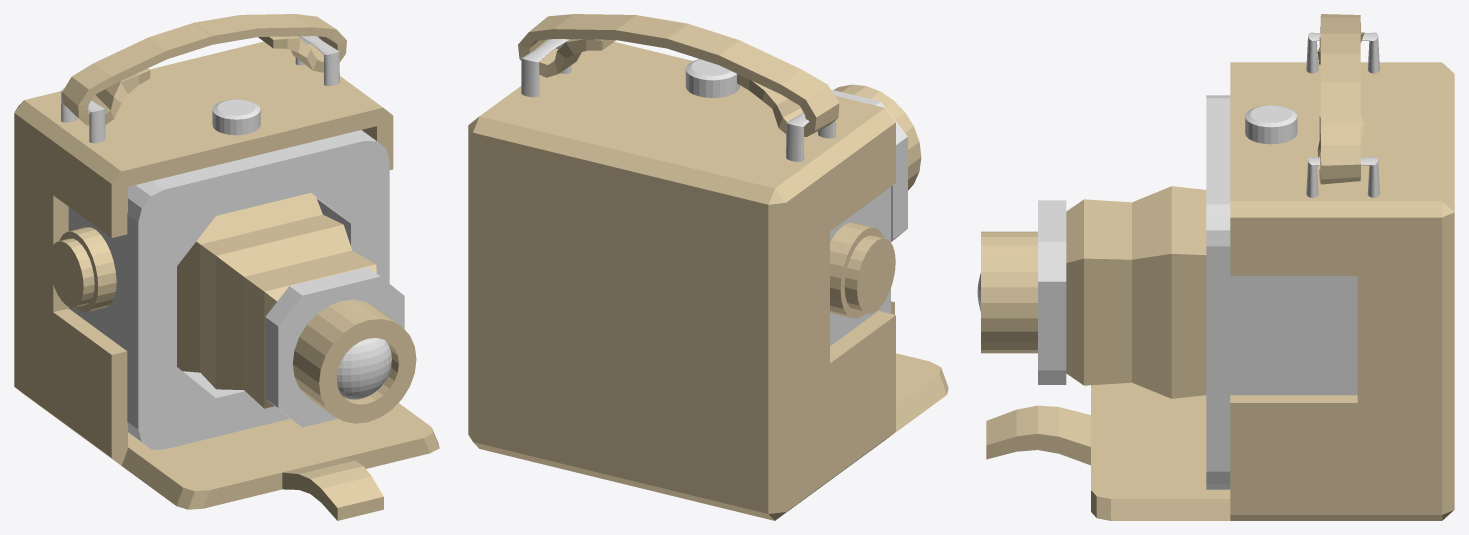
The model's file is ahajradino1_interior.fbx.
The picture shows the model from 3 angles, left to right: view 1: azimuth 30°, elevation 25°; view 2: azimuth 150°, elevation 25°; view 3: azimuth 270°, elevation 25°; orthographic projection. The views are drawn at different scales.
Parts seen in each view (by area): view 1: Cube, Cube.001, Cube.003, Cube.002, Cylinder, Cube.004, Cylinder.001, Sphere, Cylinder.002, Cylinder.004, Cylinder.003; view 2: Cube, Cube.002, Cylinder.001, Cube.001, Cube.004, Cylinder.002, Cylinder, Cylinder.003, Cylinder.004; view 3: Cube, Cube.003, Cube.001, Cube.002, Cylinder, Cube.004, Cylinder.002, Cylinder.003, Cylinder.004.
Part boxes in pixels (x1,y1,x2,y2): Cube: (14, 41, 439, 520); Cube.001: (68, 130, 389, 449); Cube.003: (177, 193, 376, 408); Cube.002: (62, 14, 346, 125); Cylinder: (292, 299, 416, 423); Cube.004: (265, 267, 404, 427); Cylinder.001: (49, 227, 116, 311); Sphere: (336, 338, 391, 399); Cylinder.002: (212, 99, 260, 135); Cylinder.004: (61, 88, 105, 143); Cylinder.003: (295, 36, 339, 85); Cube: (468, 42, 948, 520); Cube.002: (518, 14, 839, 136); Cylinder.001: (830, 222, 895, 318); Cube.001: (830, 187, 890, 345); Cube.004: (831, 89, 907, 241); Cylinder.002: (685, 59, 739, 97); Cylinder: (834, 84, 921, 190); Cylinder.003: (521, 39, 571, 97); Cylinder.004: (786, 112, 835, 161); Cube: (986, 62, 1454, 520); Cube.003: (1066, 186, 1206, 398); Cube.001: (1206, 95, 1357, 489); Cube.002: (1317, 14, 1364, 184); Cylinder: (981, 231, 1037, 353); Cube.004: (1038, 200, 1066, 384); Cylinder.002: (1245, 105, 1297, 144); Cylinder.003: (1306, 157, 1379, 197); Cylinder.004: (1306, 32, 1379, 73).
Bounding box in the file's own units: 51.18 × 60.82 × 65.94.
